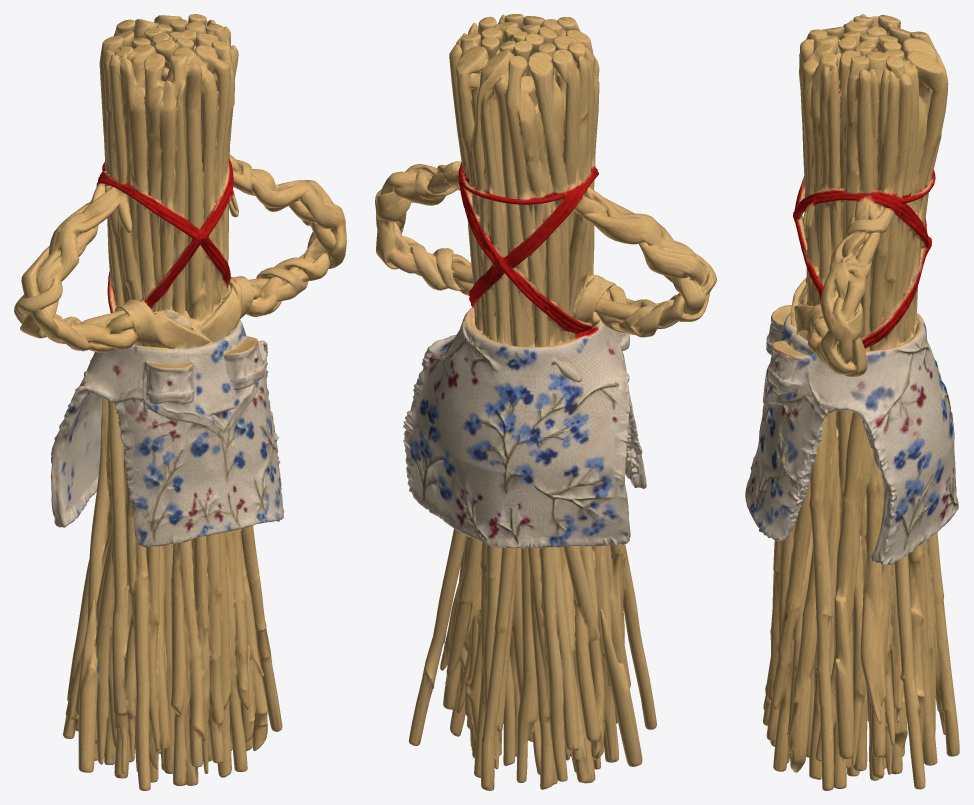
Rendered from belaya-straw-v2.glb.
The picture shows the model from 3 angles, left to right: view 1: azimuth 30°, elevation 25°; view 2: azimuth 150°, elevation 25°; view 3: azimuth 270°, elevation 25°; orthographic projection.
Parts seen in each view (by area): view 1: Doll — 10 cm; view 2: Doll — 10 cm; view 3: Doll — 10 cm.
Part boxes in pixels (bbox=[...]): Doll — 10 cm: bbox=[14, 14, 346, 790]; Doll — 10 cm: bbox=[375, 14, 716, 790]; Doll — 10 cm: bbox=[745, 14, 959, 790].
Size of the model in its own units: 0.0476 by 0.1 by 0.0267.
1 material, 1 textured.
